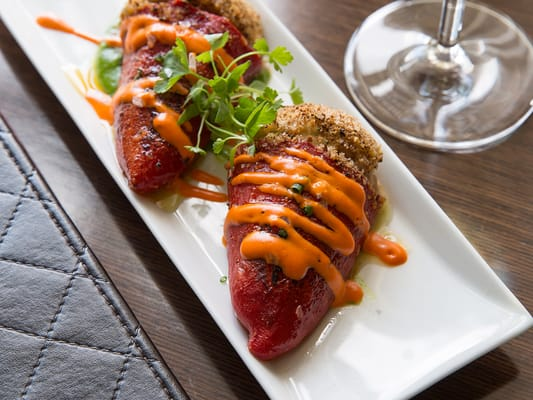sushi: (343, 0, 533, 153)
